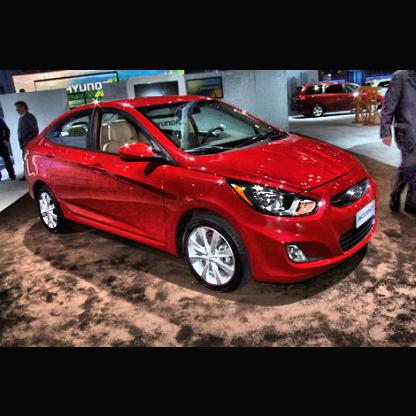Hyundai Accent Sedan 2012: (22, 94, 380, 297)
